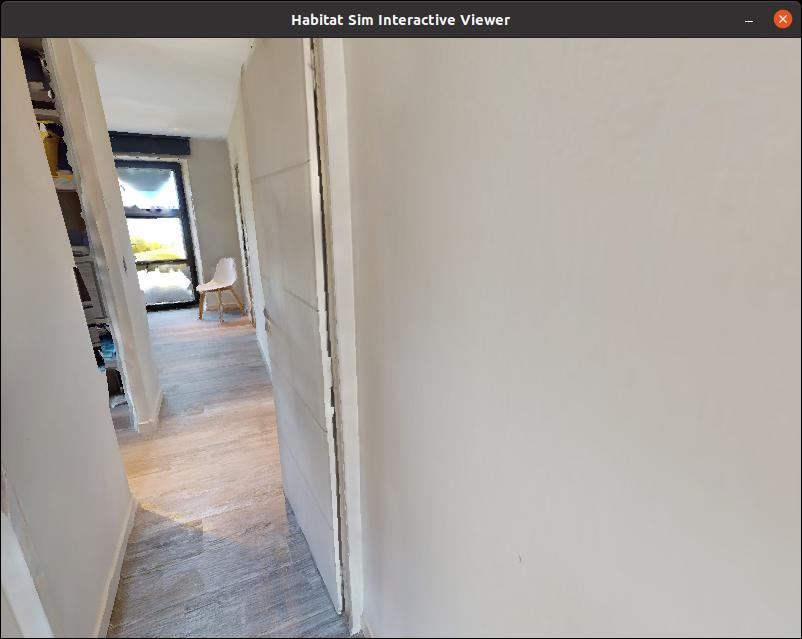chair: (185, 249, 259, 331)
door: (262, 55, 339, 593)
door-frame: (0, 41, 371, 639)
